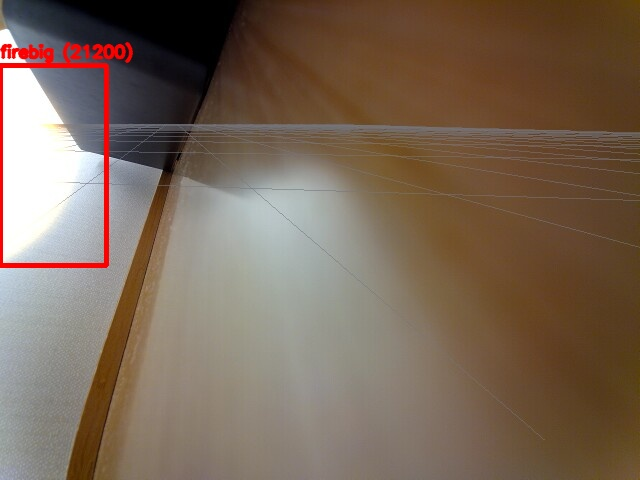firebig: (0, 65, 106, 265)
